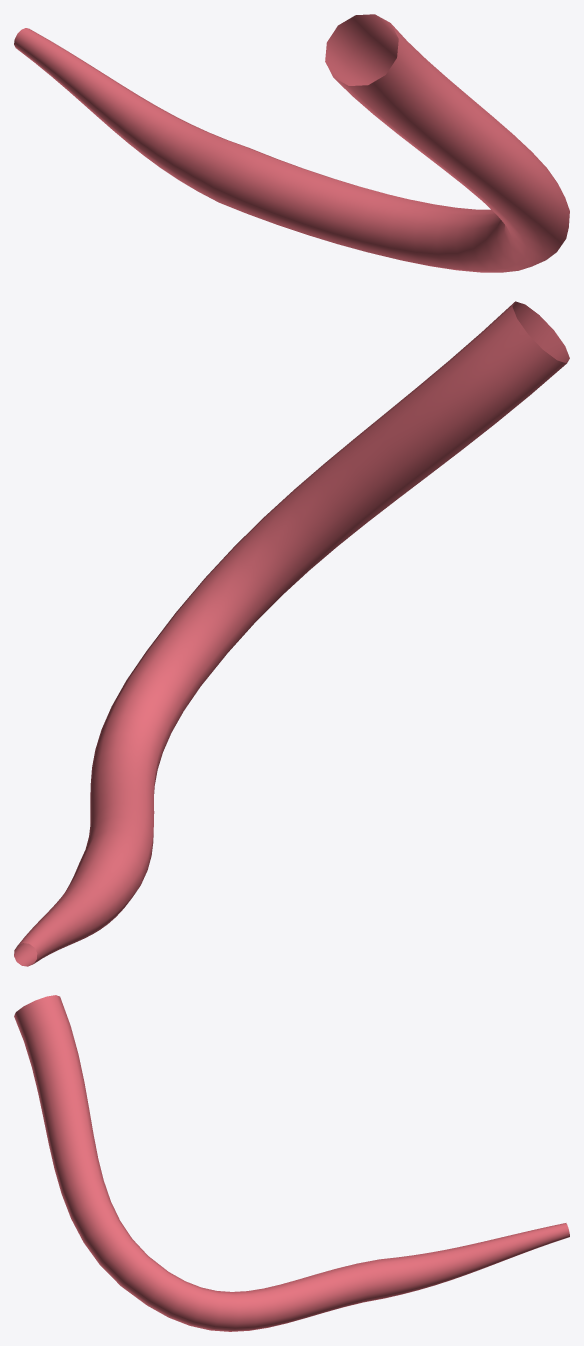
The picture shows the model from 3 angles, top to bottom: view 1: azimuth 30°, elevation 25°; view 2: azimuth 150°, elevation 25°; view 3: azimuth 270°, elevation 25°; orthographic projection. The views are drawn at different scales.
Parts seen in each view (by area): view 1: ZA_eb6d294822a3c742; view 2: ZA_eb6d294822a3c742; view 3: ZA_eb6d294822a3c742.
Part boxes in pixels (left/top/right/bottom): ZA_eb6d294822a3c742: left=14, top=14, right=569, bottom=272; ZA_eb6d294822a3c742: left=14, top=301, right=569, bottom=966; ZA_eb6d294822a3c742: left=14, top=995, right=569, bottom=1331.
Bounding box in the file's own units: 0.00923 × 0.0117 × 0.0222.
